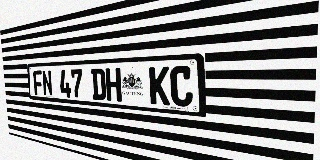4: (59, 69, 71, 98)
7: (70, 69, 83, 99)
C: (170, 66, 193, 107)
D: (91, 68, 106, 100)
F: (33, 70, 43, 95)
H: (105, 68, 122, 102)
K: (149, 66, 170, 105)
N: (42, 70, 53, 96)
